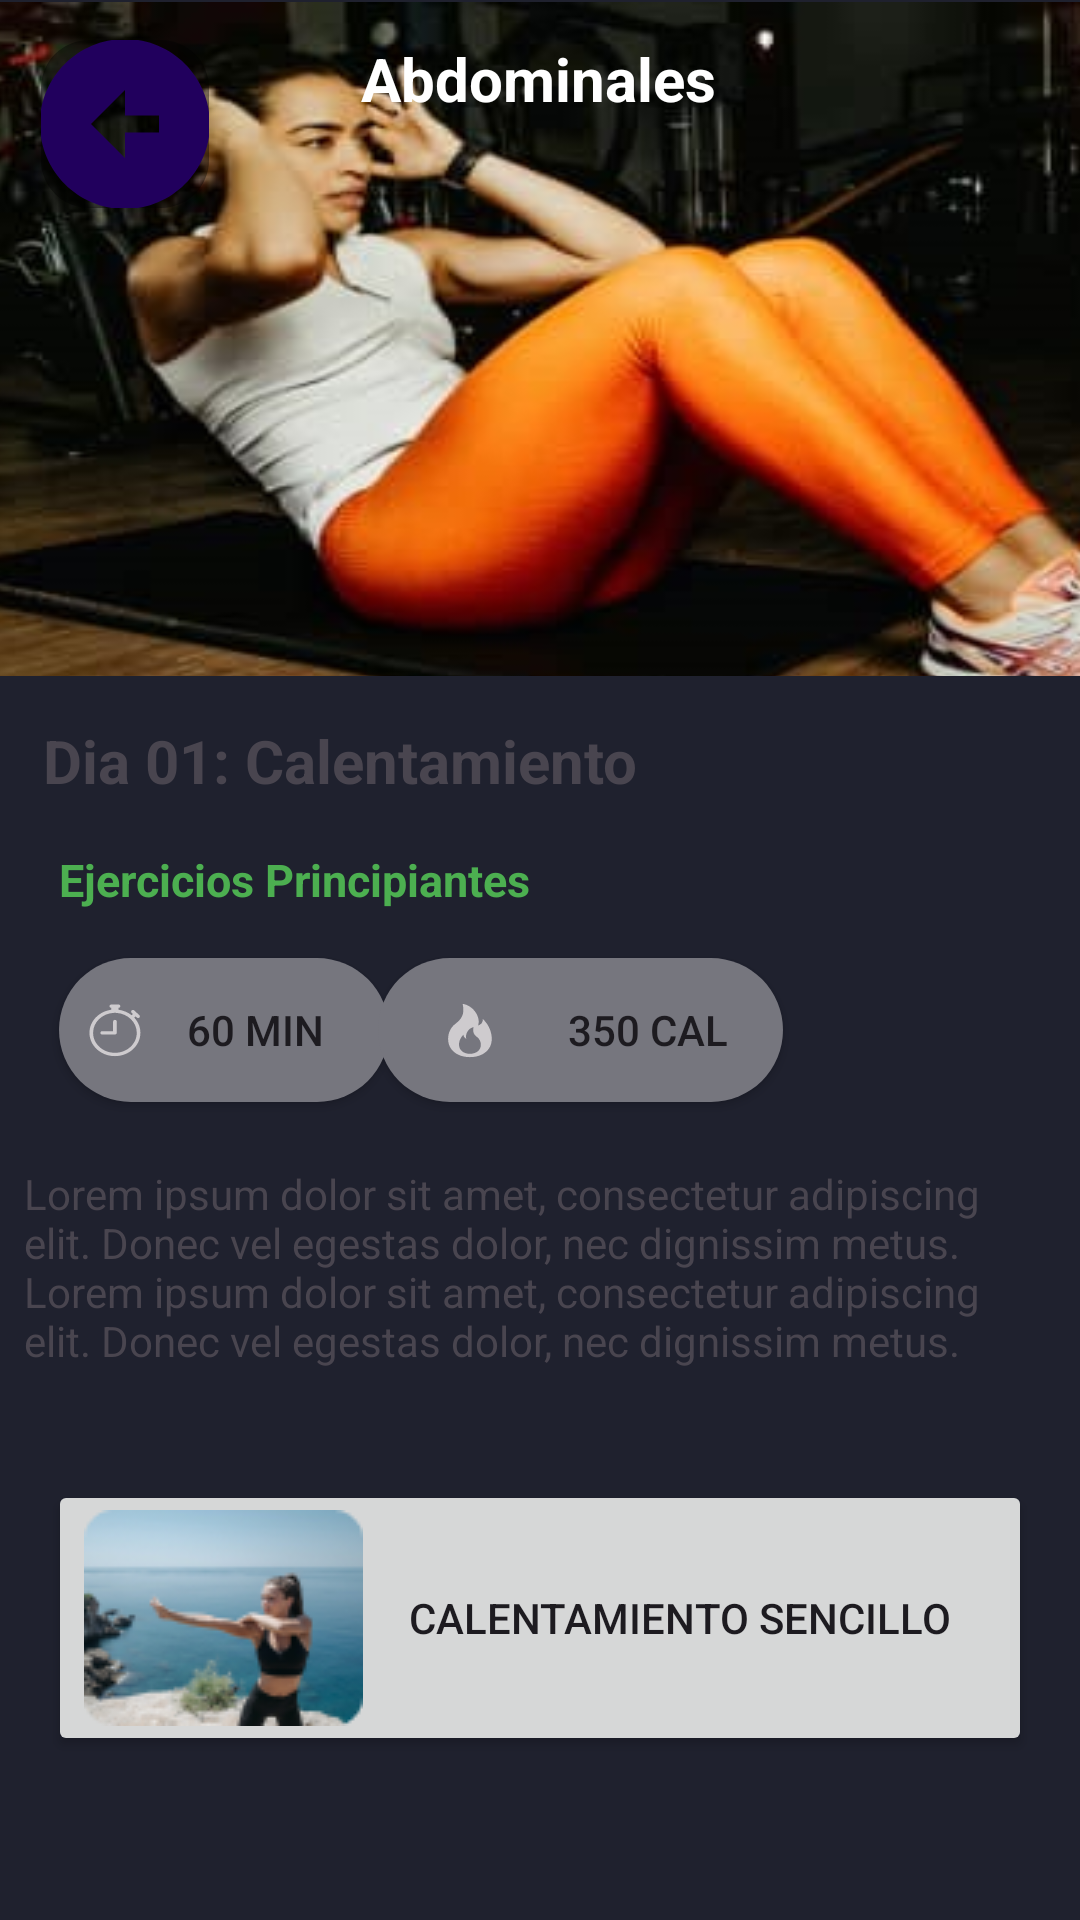

Point at icon controls on the screen. Image size 1080w x 1920h, points as (x,y).
arrow return: (125,124)
